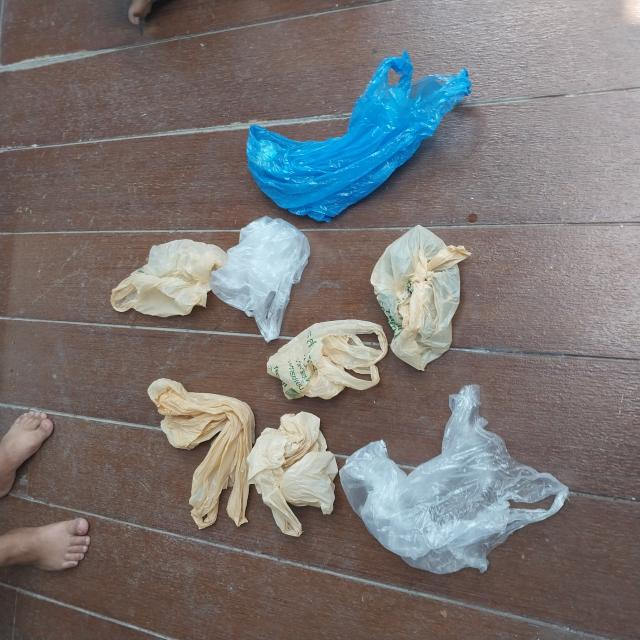Single-layer Plastic: (339, 388, 578, 578), (246, 53, 470, 234), (370, 226, 476, 376), (150, 378, 256, 527), (210, 215, 308, 342), (247, 415, 344, 541), (268, 320, 388, 399), (110, 239, 228, 318)
